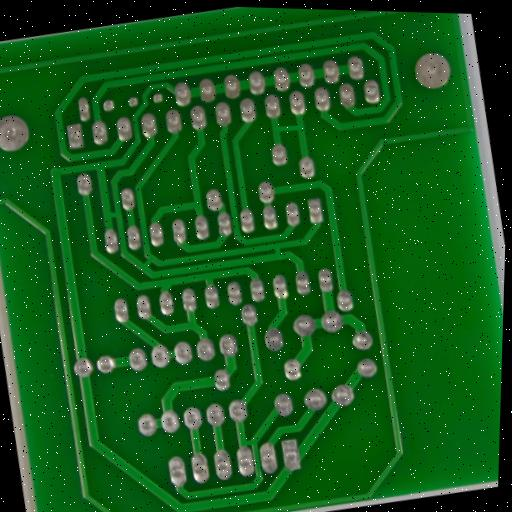short_circuit: (267, 115, 311, 143), (132, 250, 159, 275), (264, 242, 289, 265), (234, 434, 260, 453), (98, 208, 124, 223)
